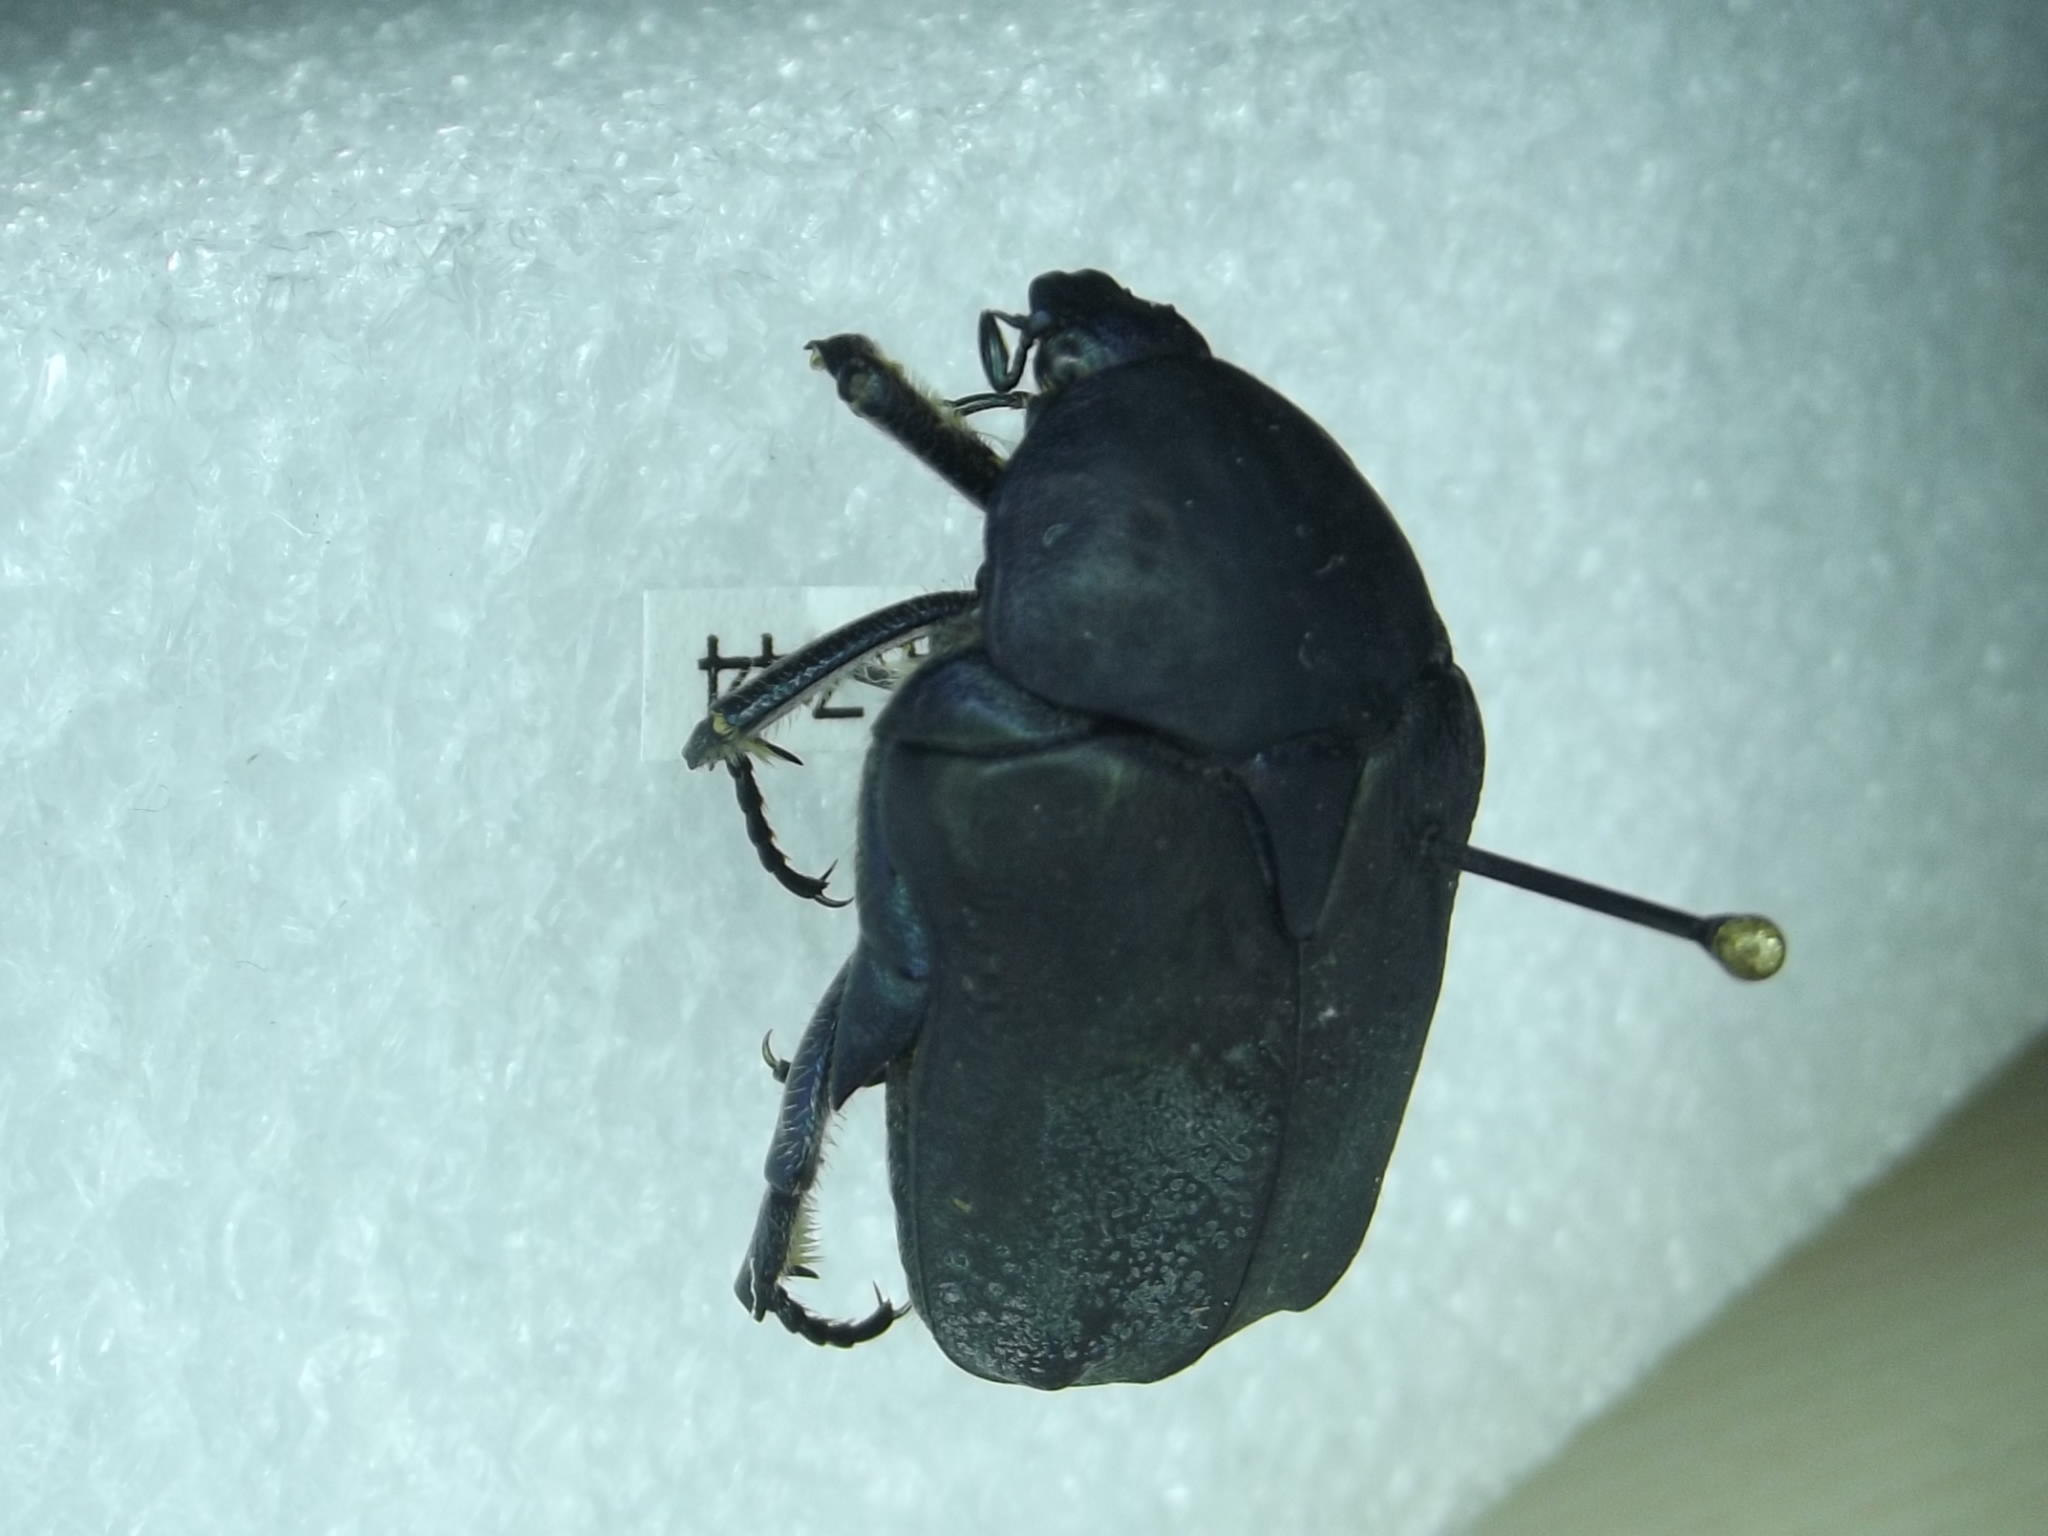Protaetia_afflicta: (685, 253, 1501, 1396)
